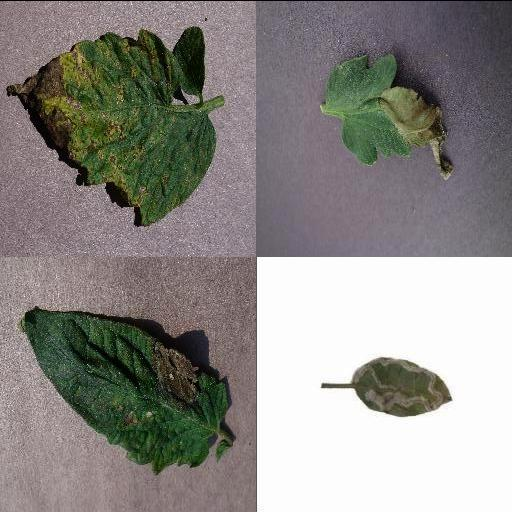Late Blight: (19, 306, 231, 474), (322, 48, 454, 178)
Leaf Miner: (351, 359, 452, 417)
Septoria: (8, 24, 216, 226)
